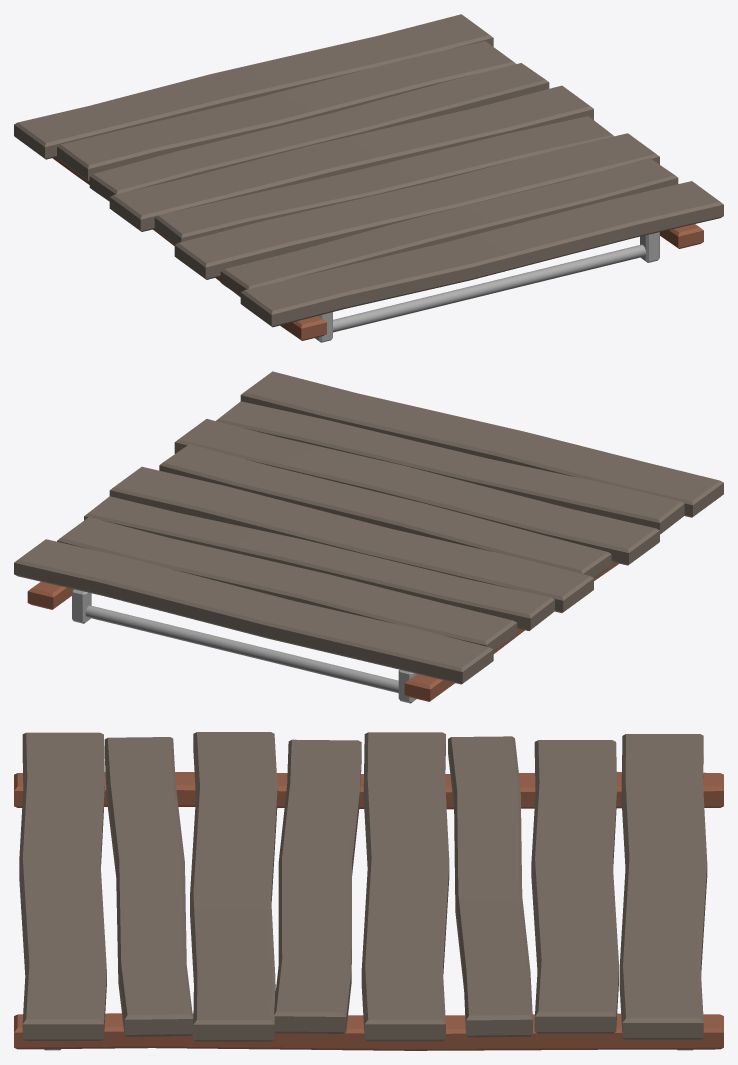
Rendered from movingplatform.fbx.
The picture shows the model from 3 angles, top to bottom: view 1: azimuth 30°, elevation 25°; view 2: azimuth 150°, elevation 25°; view 3: azimuth 270°, elevation 25°; orthographic projection. The views are drawn at different scales.
Parts seen in each view (by area): view 1: pCube48; view 2: pCube48; view 3: pCube48.
Part boxes in pixels (box(x1,y1,x2,y2)): pCube48: box(14, 14, 723, 342); pCube48: box(14, 371, 723, 703); pCube48: box(14, 732, 723, 1050).
Size of the model in its own units: 203 by 21.85 by 209.
